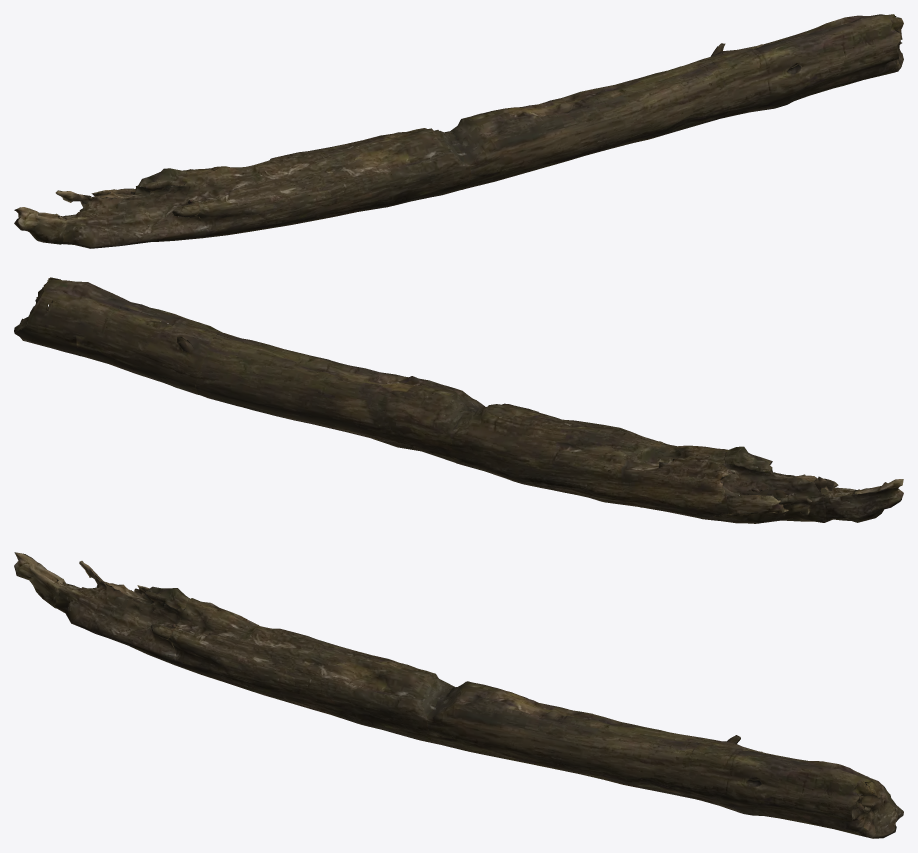
Rendered from dead_tree_trunk.glb.
3 renders of one model, top to bottom at view 1: azimuth 30°, elevation 25°; view 2: azimuth 150°, elevation 25°; view 3: azimuth 330°, elevation 25°, orthographic.
Parts seen in each view (by area): view 1: dead_tree_trunk; view 2: dead_tree_trunk; view 3: dead_tree_trunk.
Boxes of the visible parts, x1,y1,x2,y2 form: dead_tree_trunk: (14,14,903,248); dead_tree_trunk: (14,277,903,523); dead_tree_trunk: (14,552,903,838).
Bounding box in the file's own units: 3.05 × 0.288 × 0.2759.
Materials: 1 (1 with a texture image).
